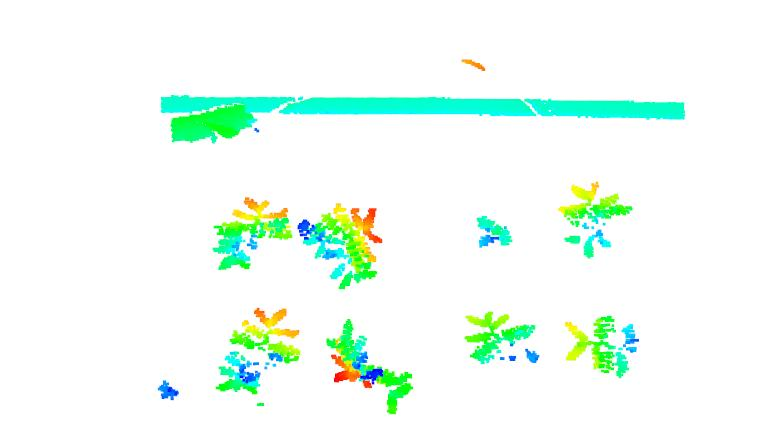chickpea: (323, 319, 413, 415), (215, 306, 303, 395), (295, 205, 384, 291), (209, 195, 293, 273), (556, 182, 633, 257), (564, 312, 637, 377), (462, 308, 541, 368), (472, 212, 513, 248)
